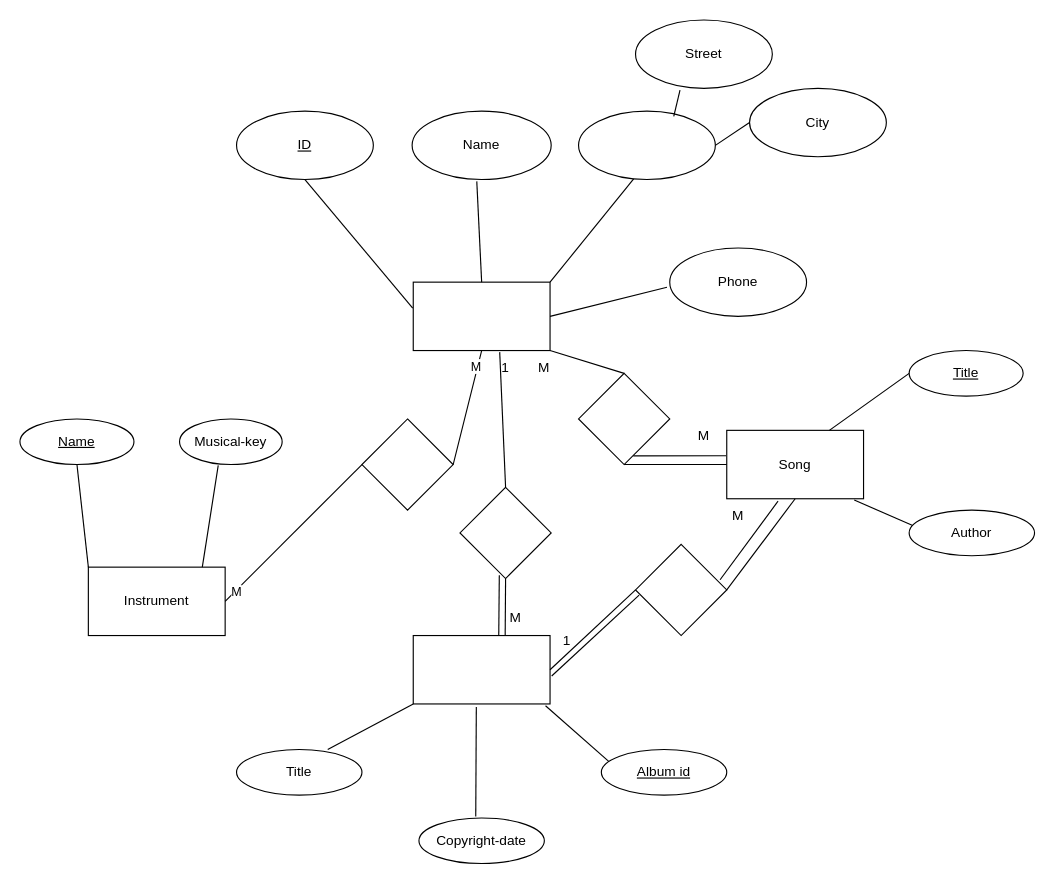
The diagram is 1055 pixels wide and 884 high, and some of its shapes have lost their labels. Here are the shapes that lost their labels. From the top down, the box of each, then its label:
(577, 110, 715, 180): Address
(412, 281, 550, 351): Musican
(577, 372, 670, 465): Perform
(361, 418, 453, 510): play
(459, 486, 551, 579): Produce
(634, 543, 727, 636): Has
(412, 634, 550, 704): Album
